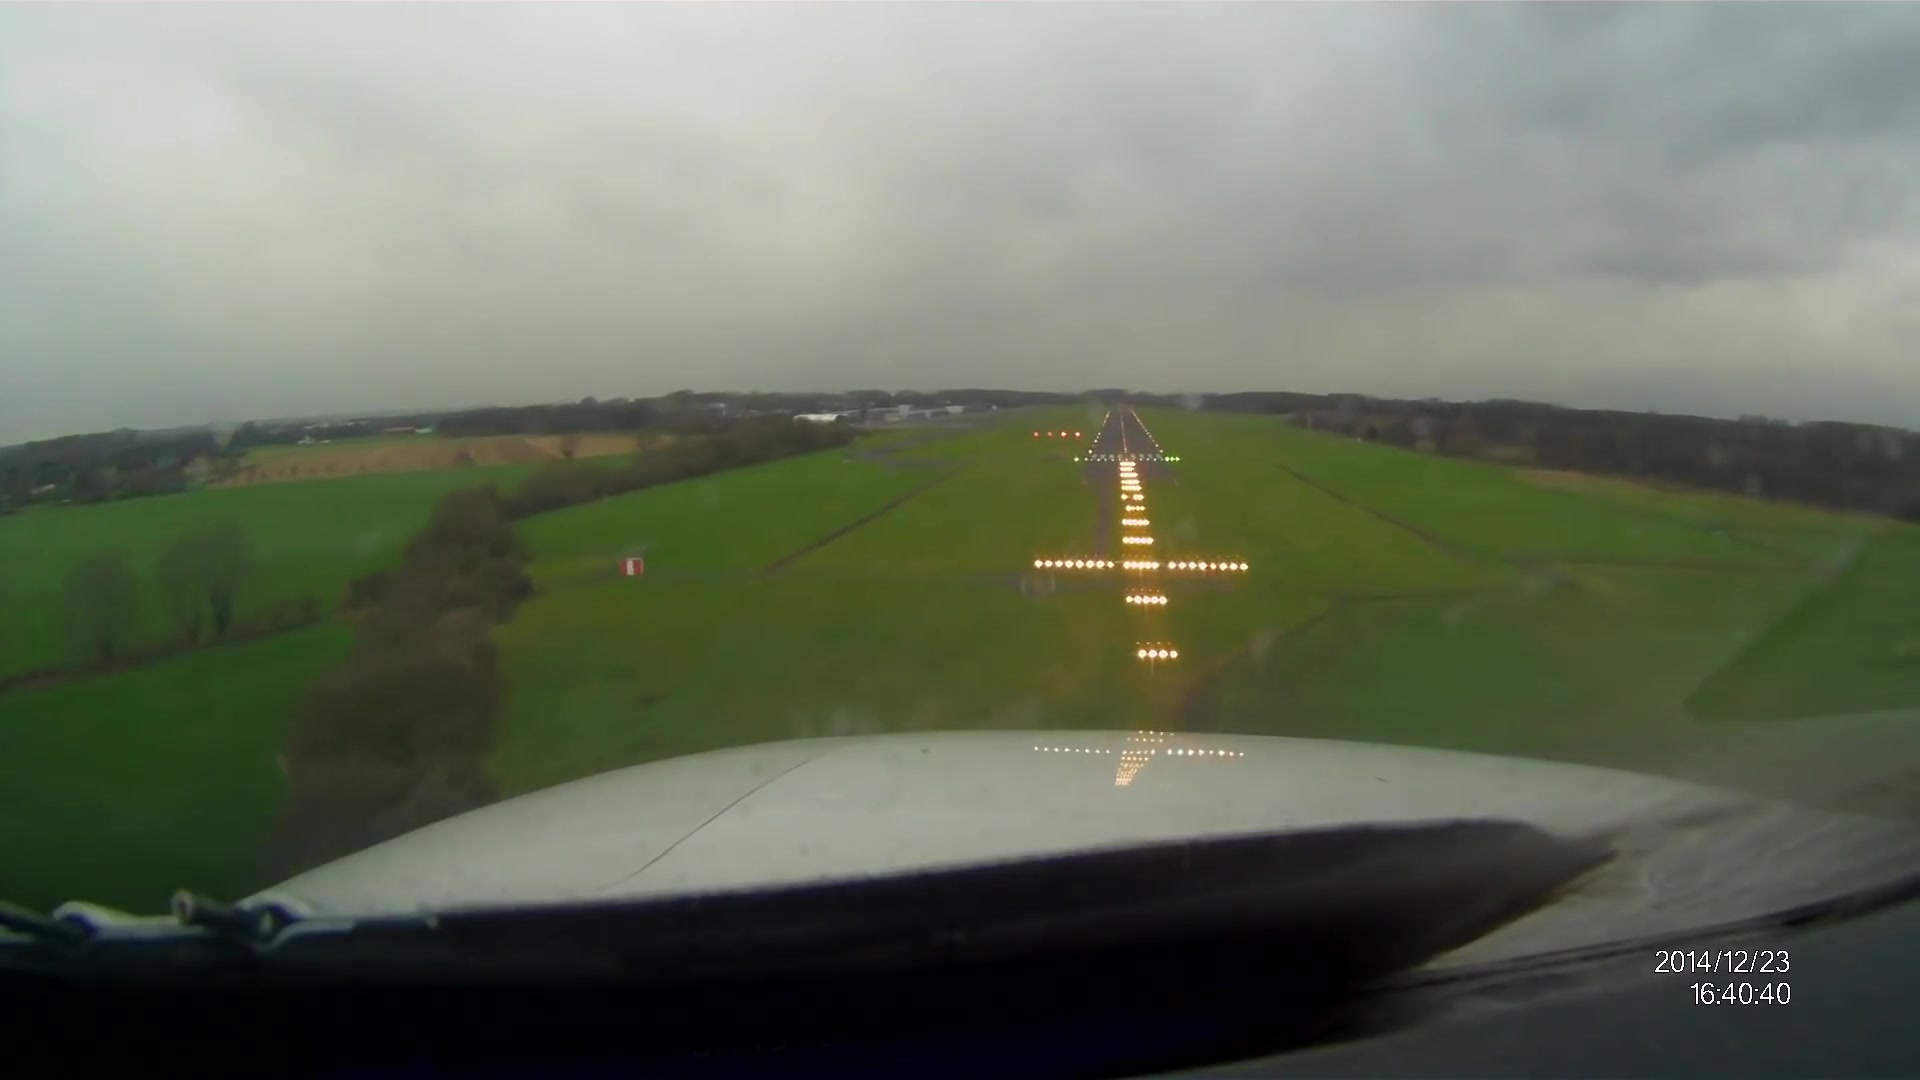entrance: (1091, 452, 1162, 459)
runway: (1081, 409, 1168, 464)
